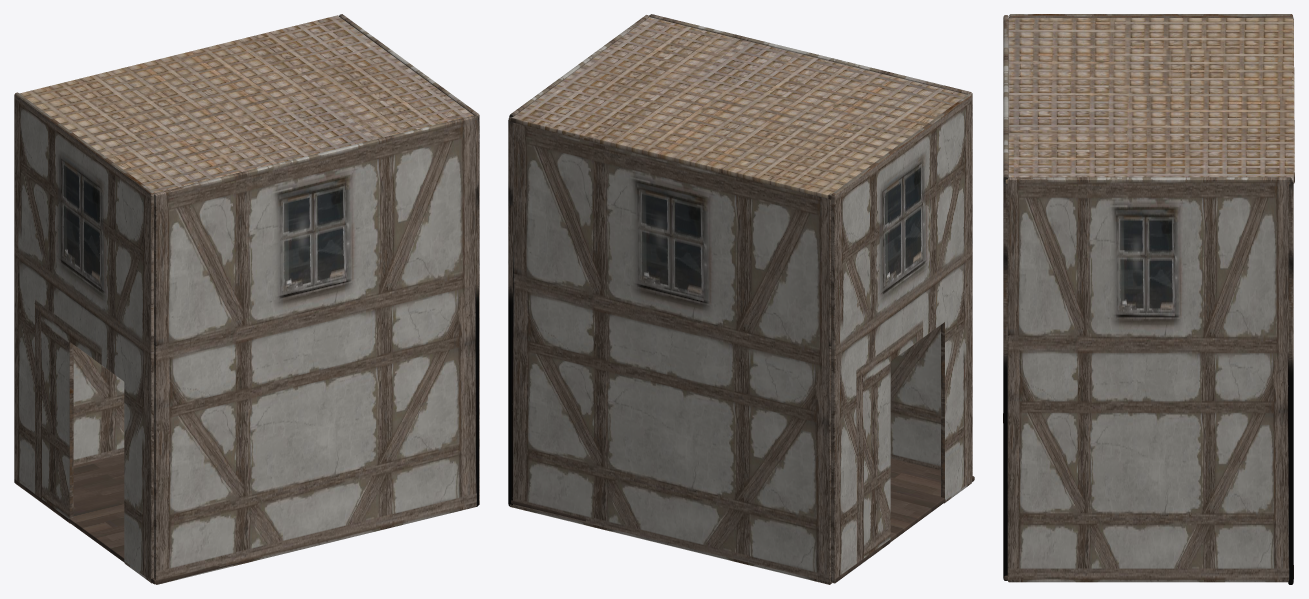
Rendered from ShoninRoom_fix2.fbx.
3 renders of one model, left to right at view 1: azimuth 30°, elevation 25°; view 2: azimuth 150°, elevation 25°; view 3: azimuth 270°, elevation 25°, orthographic. The views are drawn at different scales.
Parts seen in each view (by area): view 1: Sroom_Wall, Sroom_Floor; view 2: Sroom_Wall, Sroom_Floor; view 3: Sroom_Wall.
Boxes of the visible parts, left/top/right/bottom form: Sroom_Wall: left=14, top=14, right=479, bottom=584; Sroom_Floor: left=14, top=453, right=479, bottom=584; Sroom_Wall: left=508, top=14, right=972, bottom=584; Sroom_Floor: left=511, top=458, right=974, bottom=582; Sroom_Wall: left=1003, top=14, right=1294, bottom=584.
Size of the model in its own units: 3.52 by 4.03 by 2.62.
Materials: 4 (4 with a texture image).
